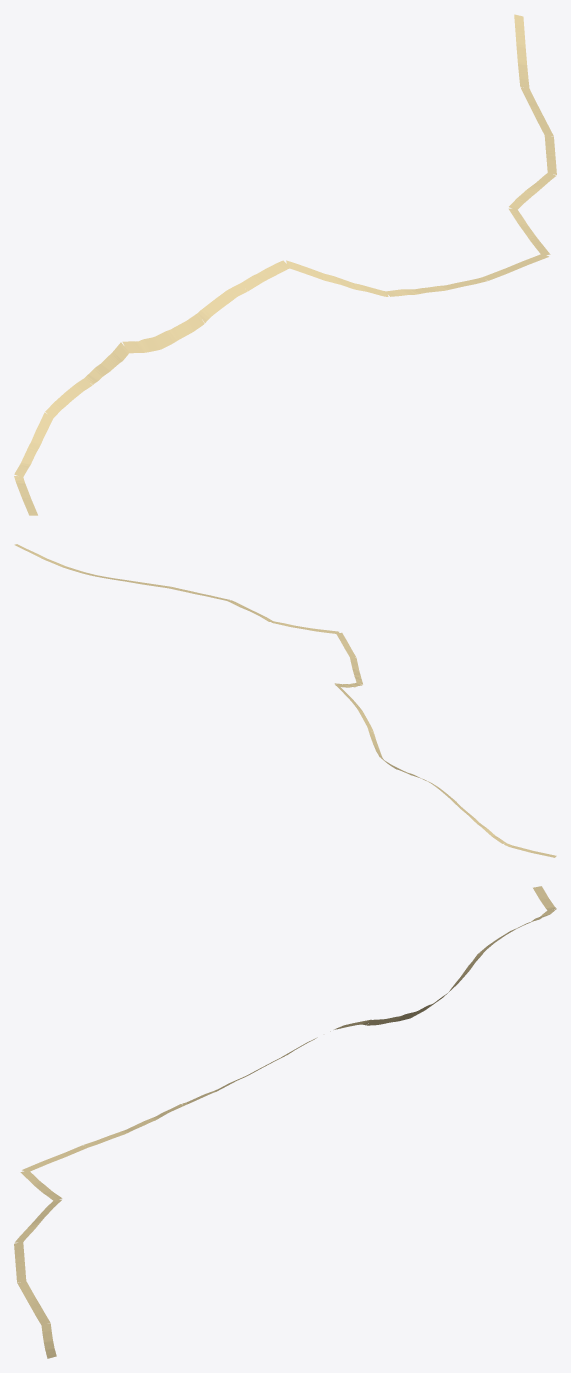
File: Trail_10.glb
3 views of the same model, one above another, from view 1: azimuth 90°, elevation 25°; view 2: azimuth 150°, elevation 25°; view 3: azimuth 270°, elevation 25° (orthographic). The views are drawn at different scales.
Visible parts, largest first — view 1: Trail_10; view 2: Trail_10; view 3: Trail_10.
Part boxes in pixels (x1=…): Trail_10: x1=14, y1=14, x2=556, y2=515; Trail_10: x1=14, y1=544, x2=556, y2=857; Trail_10: x1=14, y1=886, x2=556, y2=1358.
Size of the model in its own units: 217 by 11.85 by 102.
